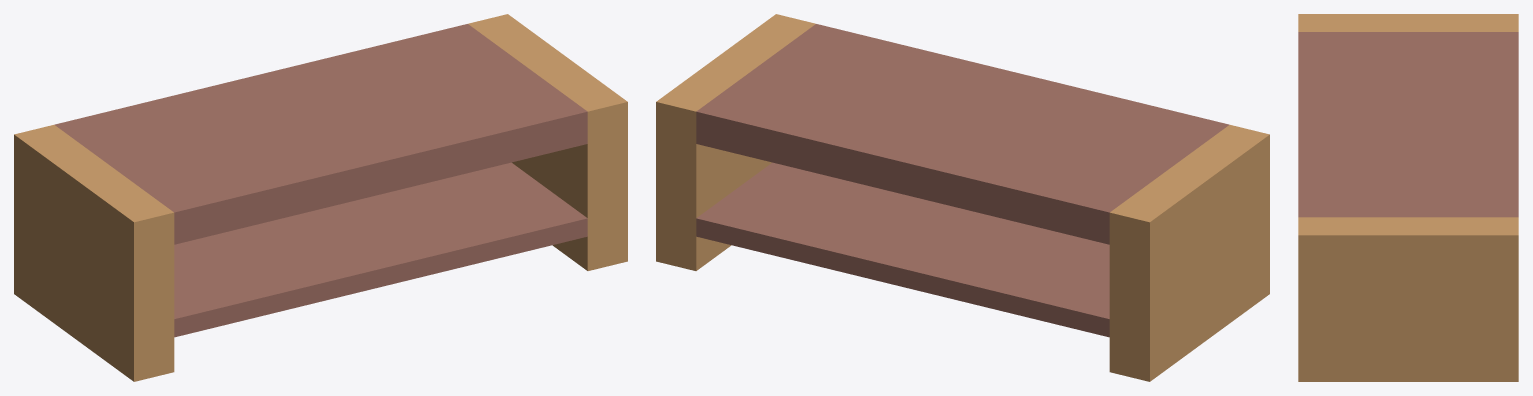
The model's file is Table1.fbx.
3 views of the same model, side by side, from view 1: azimuth 30°, elevation 25°; view 2: azimuth 150°, elevation 25°; view 3: azimuth 270°, elevation 25° (orthographic). The views are drawn at different scales.
Visible parts, largest first — view 1: Cube; view 2: Cube; view 3: Cube.
Part boxes in pixels (left/top/right/bottom): Cube: left=14, top=14, right=627, bottom=381; Cube: left=656, top=14, right=1269, bottom=381; Cube: left=1298, top=14, right=1518, bottom=381.
Size of the model in its own units: 2.37 by 0.7335 by 1.
